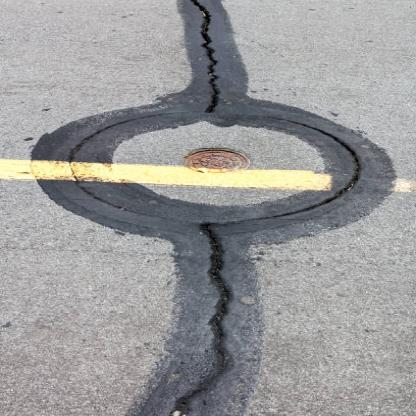manholes: (25, 93, 398, 255)
